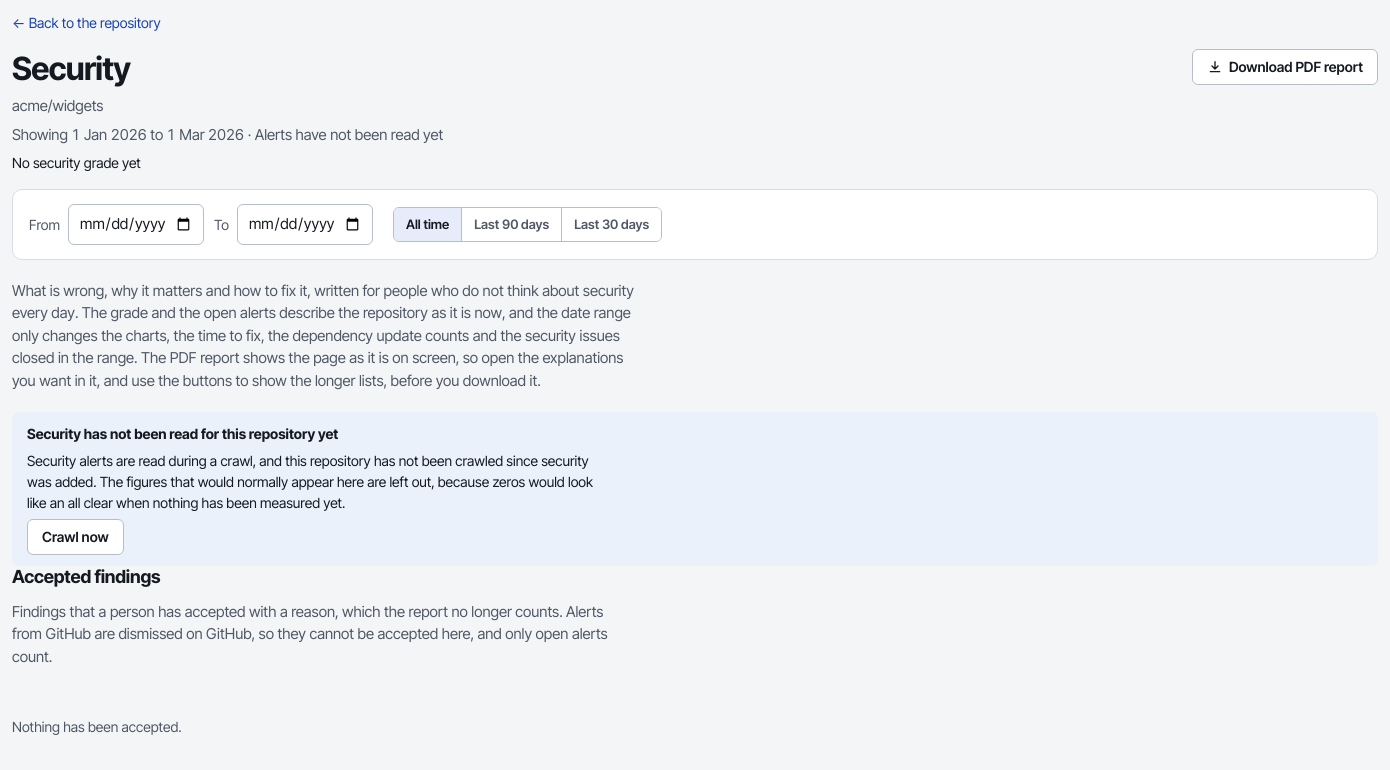
Test case: SecurityPage › before the first crawl with security › says when the crawl could not be started
What coordinates should you click on to do the following:
click the button "Crawl now"
I would click on:
 (75, 537)
Its box is [27,519,124,555].
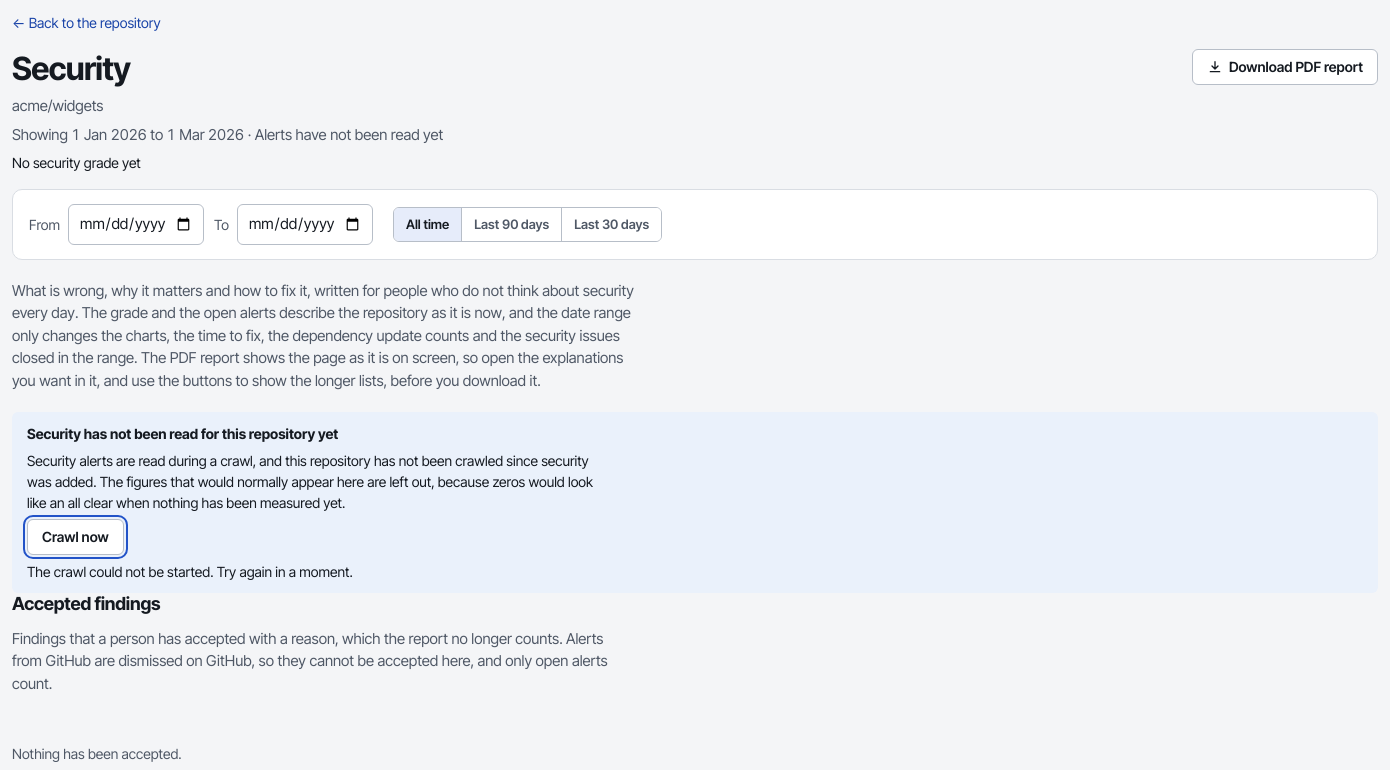
Check: the text "The crawl could not be started. Try again in a moment." is shown, box [27,561,353,582]
